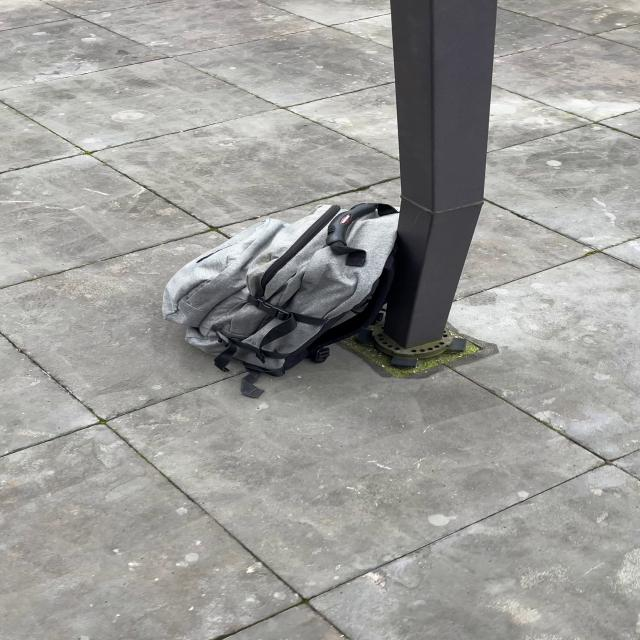backpack: (148, 194, 408, 381)
